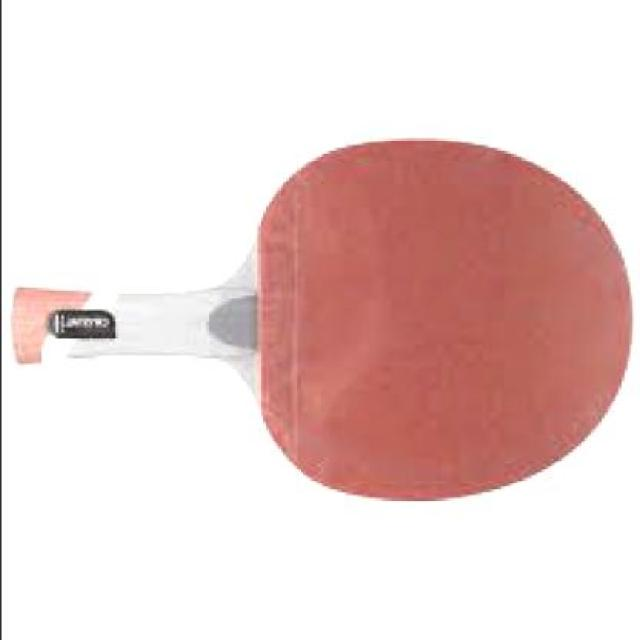table_tennis_racket: (232, 132, 638, 514)
